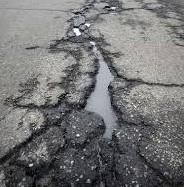alligator-crack: (9, 112, 154, 187)
crack: (128, 75, 184, 90)
pothole: (76, 41, 123, 143), (70, 26, 83, 38), (104, 5, 118, 11), (82, 20, 91, 28)
